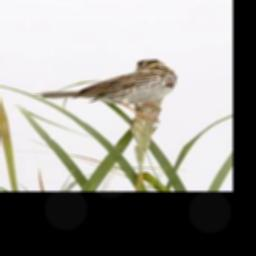Sparrow: (28, 57, 177, 123)
